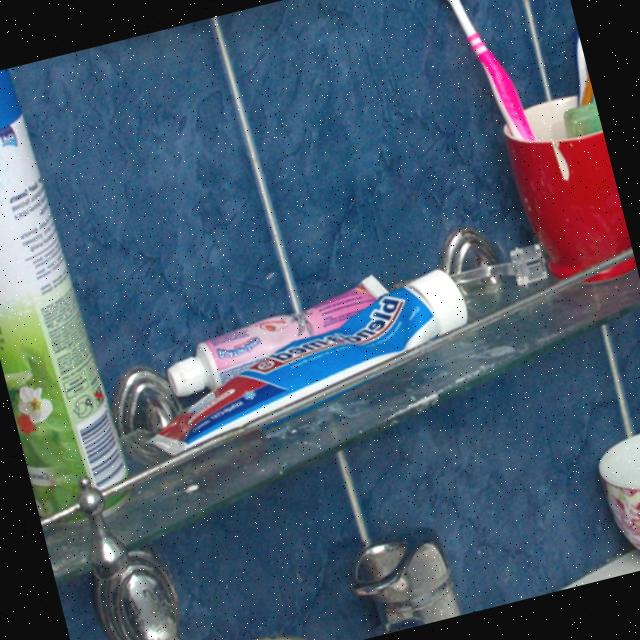Toothpaste: (108, 245, 499, 470)
